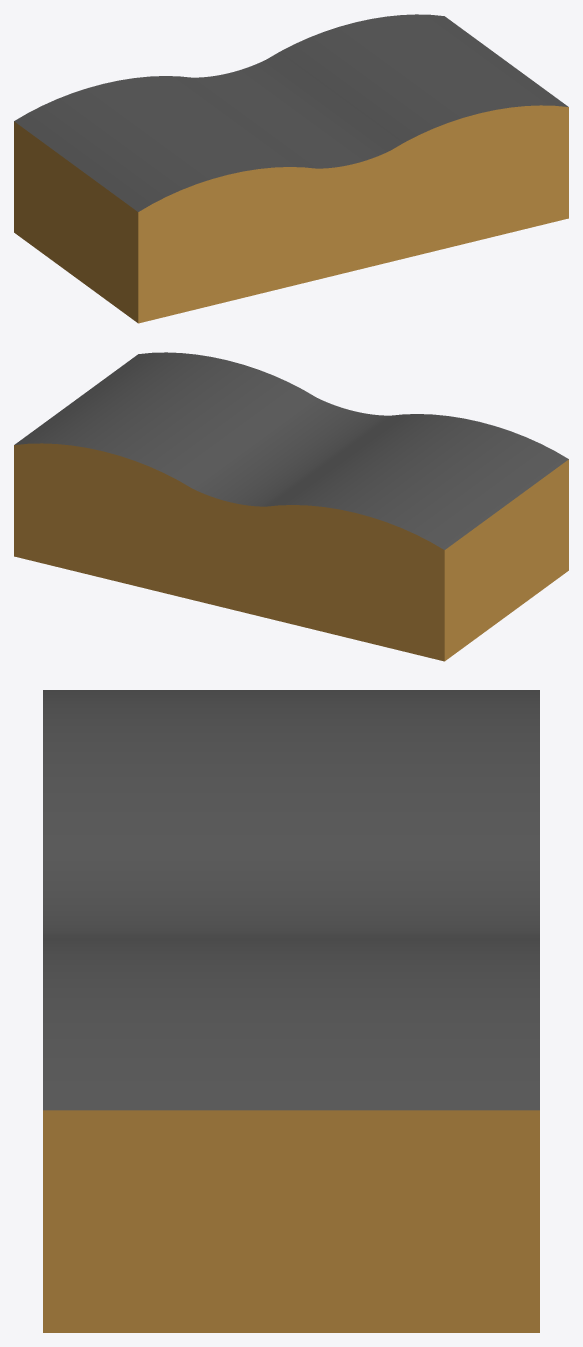
Rendered from Skate_Block_Double_Wave_01.FBX.
The picture shows the model from 3 angles, top to bottom: view 1: azimuth 30°, elevation 25°; view 2: azimuth 150°, elevation 25°; view 3: azimuth 270°, elevation 25°; orthographic projection. The views are drawn at different scales.
Visible parts, largest first — view 1: Skate_Block_Double_Wave_01; view 2: Skate_Block_Double_Wave_01; view 3: Skate_Block_Double_Wave_01.
Part boxes in pixels (x1,y1,x2,y2): Skate_Block_Double_Wave_01: [14, 14, 568, 323]; Skate_Block_Double_Wave_01: [14, 352, 568, 661]; Skate_Block_Double_Wave_01: [43, 690, 539, 1332].
Size of the model in its own units: 6 by 1.69 by 3.
